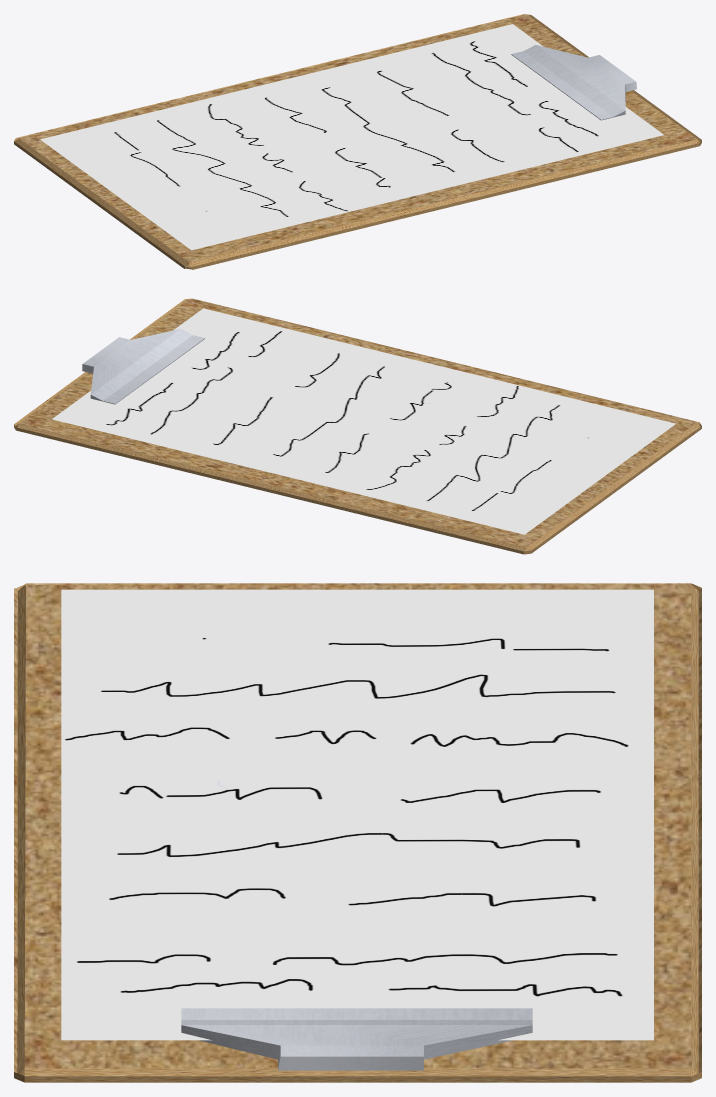
Rendered from clipboardCompleted.fbx.
The picture shows the model from 3 angles, top to bottom: view 1: azimuth 30°, elevation 25°; view 2: azimuth 150°, elevation 25°; view 3: azimuth 270°, elevation 25°; orthographic projection. The views are drawn at different scales.
Parts seen in each view (by area): view 1: Paper, Board, Clip; view 2: Paper, Board, Clip; view 3: Paper, Board, Clip.
Boxes of the visible parts, bbox=[...] form: Paper: bbox=[40, 24, 663, 250]; Board: bbox=[14, 14, 701, 269]; Clip: bbox=[511, 45, 636, 120]; Paper: bbox=[52, 308, 675, 534]; Board: bbox=[14, 298, 701, 554]; Clip: bbox=[82, 329, 205, 404]; Paper: bbox=[61, 589, 653, 1040]; Board: bbox=[14, 583, 701, 1082]; Clip: bbox=[181, 1008, 532, 1070].
Bounding box in the file's own units: 394 × 11 × 232.
Materials: 3 (3 with a texture image).
